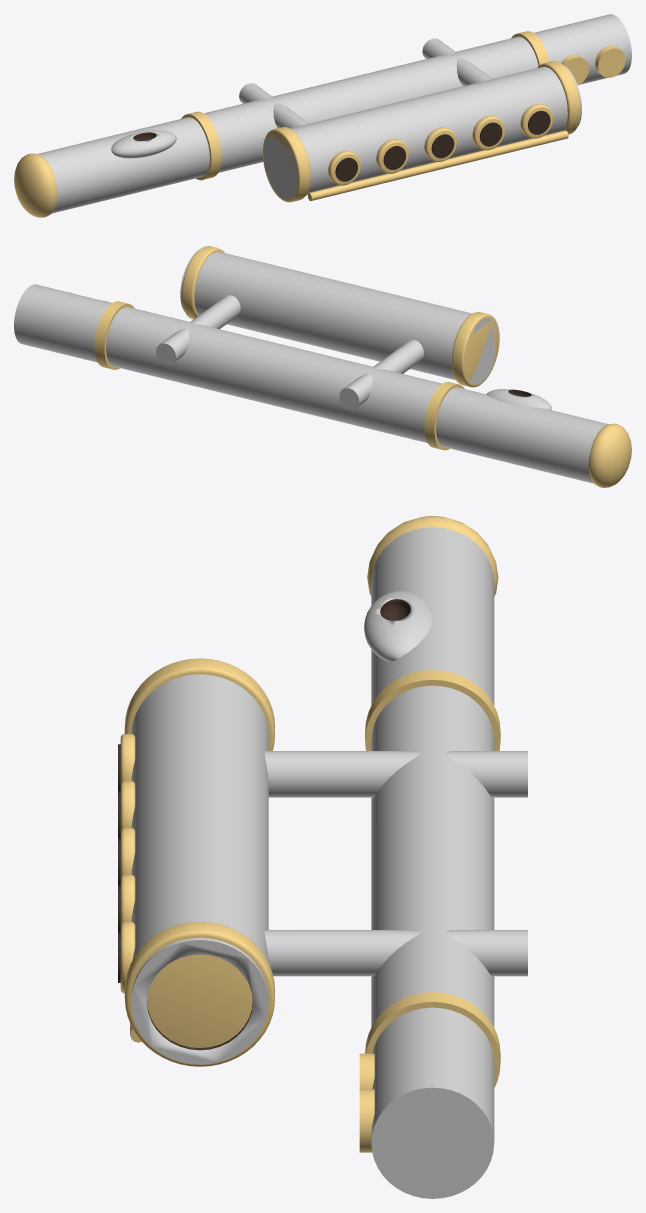
3 renders of one model, top to bottom at view 1: azimuth 30°, elevation 25°; view 2: azimuth 150°, elevation 25°; view 3: azimuth 270°, elevation 25°, orthographic. The views are drawn at different scales.
Visible parts, largest first — view 1: flute_v5_default; view 2: flute_v5_default; view 3: flute_v5_default.
Boxes of the visible parts, <box> form: flute_v5_default: <box>14,14,631,217</box>; flute_v5_default: <box>14,246,631,487</box>; flute_v5_default: <box>118,516,527,1198</box>.
Size of the model in its own units: 1.3 by 0.17 by 0.3875.
